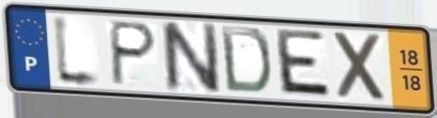D: (217, 23, 274, 97)
E: (275, 26, 335, 102)
L: (50, 10, 106, 93)
N: (157, 19, 224, 95)
P: (108, 18, 160, 88)
X: (330, 28, 390, 105)
